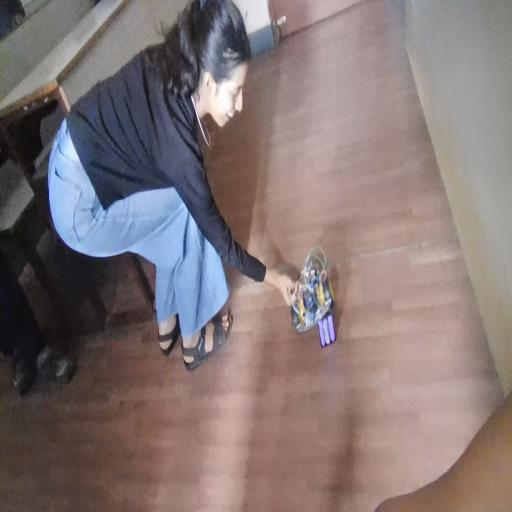car: (284, 255, 357, 364)
